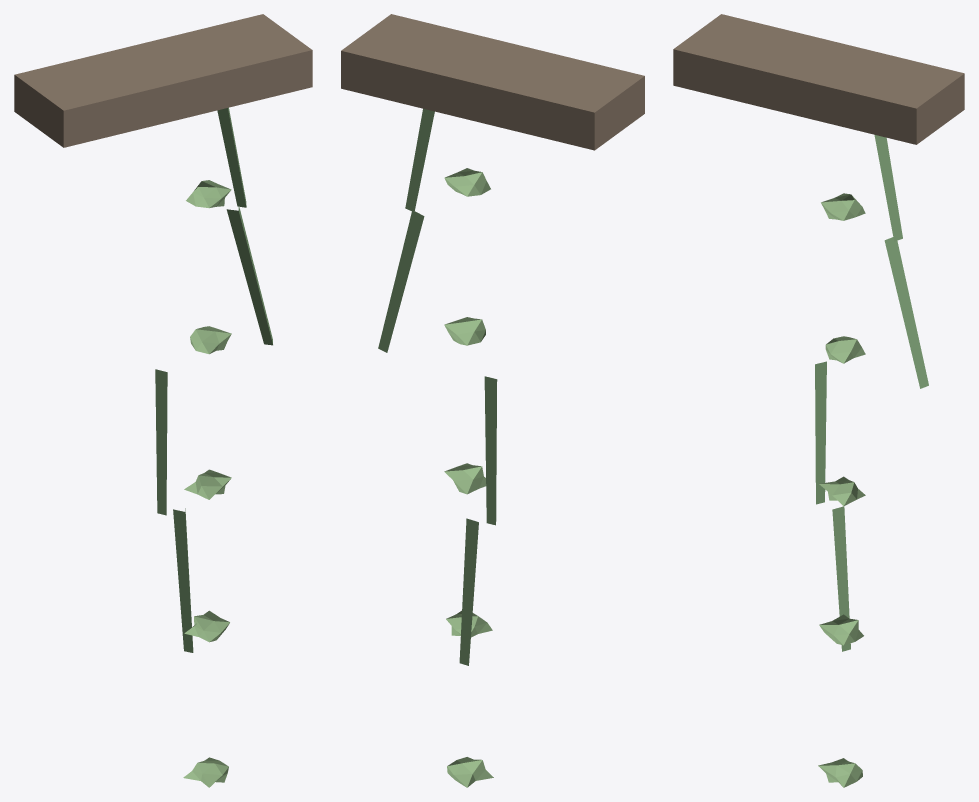
The model's file is vine_v08.glb.
3 renders of one model, left to right at view 1: azimuth 30°, elevation 25°; view 2: azimuth 150°, elevation 25°; view 3: azimuth 330°, elevation 25°, orthographic. The views are drawn at different scales.
Parts seen in each view (by area): view 1: lod0; view 2: lod0; view 3: lod0.
Boxes of the visible parts, x1,y1,x2,y2 form: lod0: [14, 14, 312, 787]; lod0: [341, 14, 644, 787]; lod0: [673, 14, 964, 787].
Size of what is drawn, in the model's own units: 0.7 by 1.95 by 0.2441.
